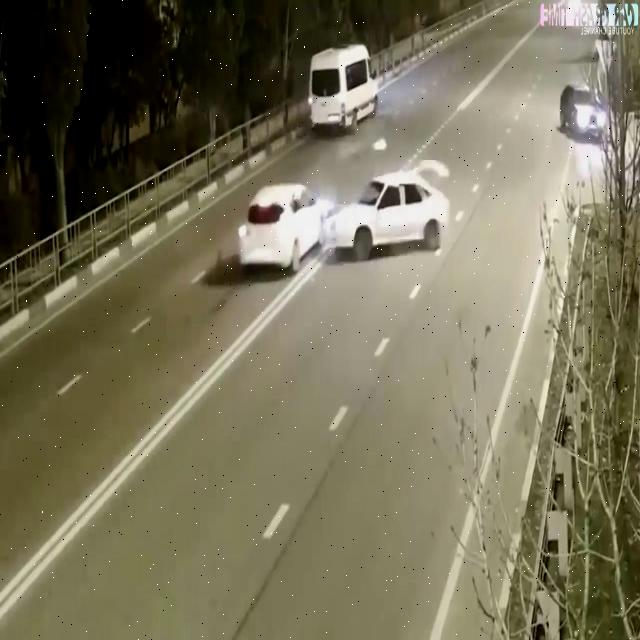accident: (232, 145, 464, 289)
